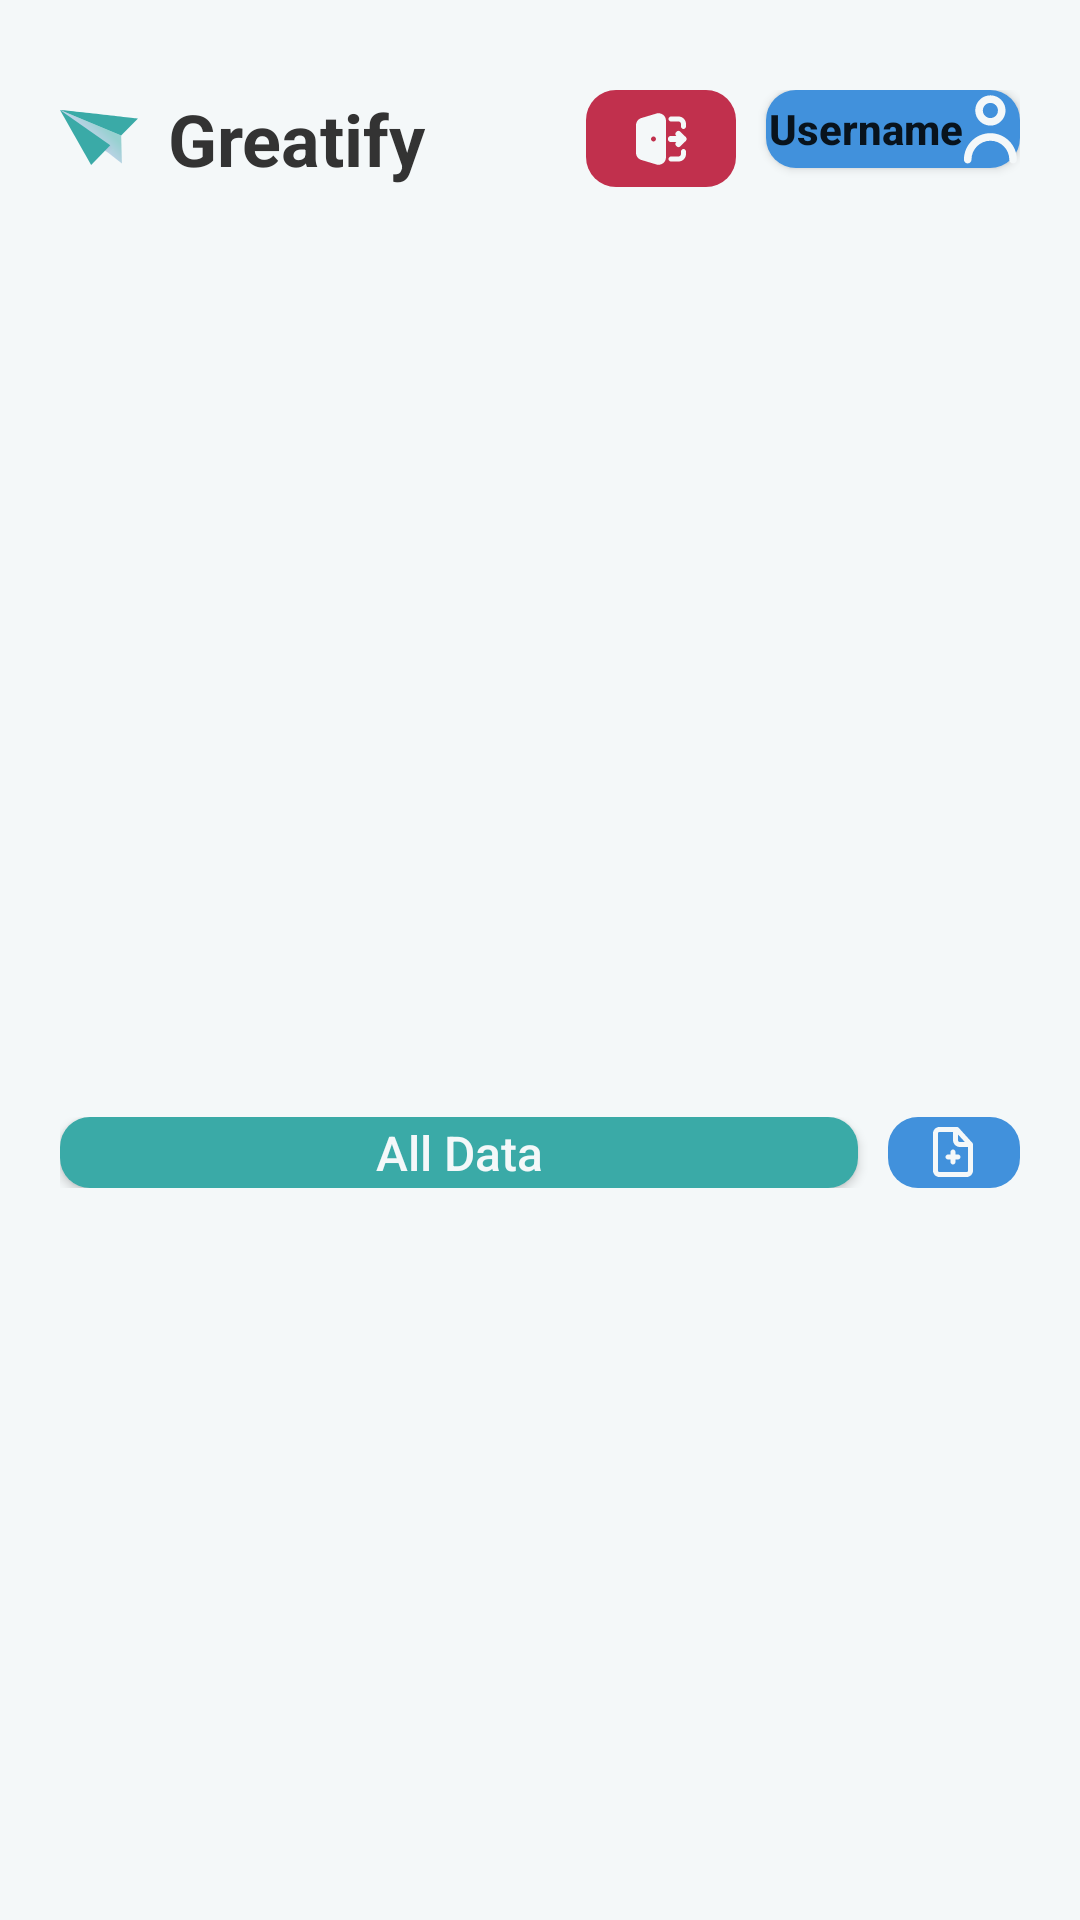

Named icons in this screenshot (1080x1920) and their bounding boxes, (x1, y1, x2, y2):
add data: (888, 1117, 1020, 1188)
signout: (586, 90, 736, 187)
